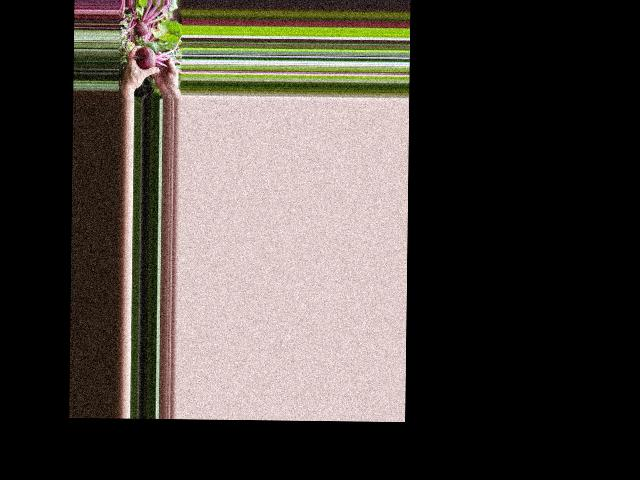beet: (134, 34, 181, 70)
